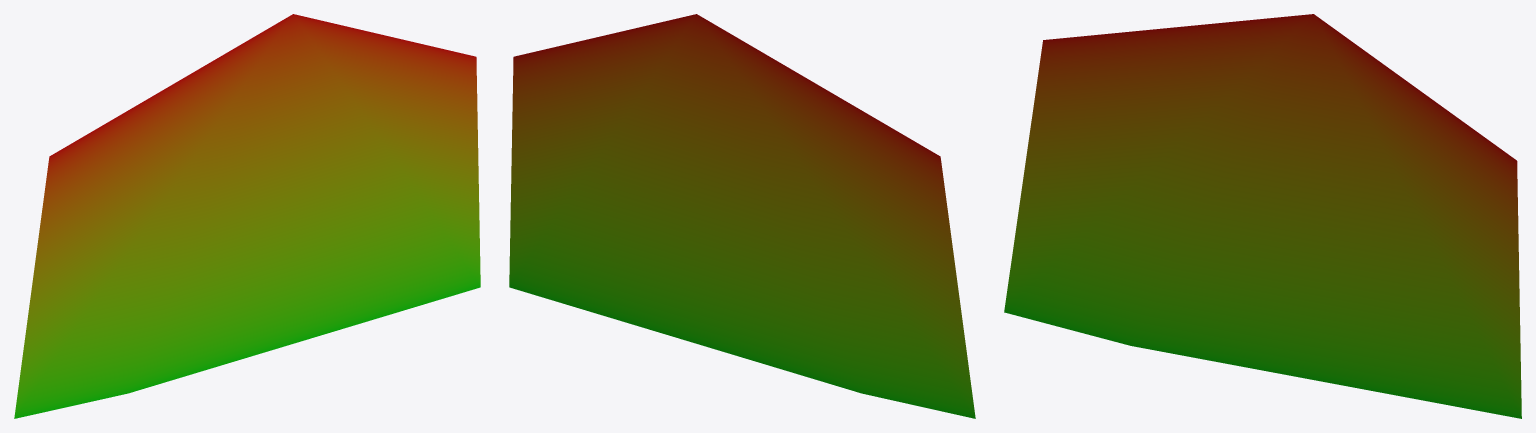
Rendered from Money Plant_LOD3_Var6_uchmfdyia.fbx.
3 views of the same model, side by side, from view 1: azimuth 30°, elevation 25°; view 2: azimuth 150°, elevation 25°; view 3: azimuth 330°, elevation 25° (orthographic). The views are drawn at different scales.
Visible parts, largest first — view 1: _1567_Var6_LOD3; view 2: _1567_Var6_LOD3; view 3: _1567_Var6_LOD3.
Part boxes in pixels (x1,y1,x2,y2): _1567_Var6_LOD3: (14,14,480,418); _1567_Var6_LOD3: (509,14,975,418); _1567_Var6_LOD3: (1004,14,1521,418).
Size of the model in its own units: 18.81 by 13.07 by 5.72e-06.
